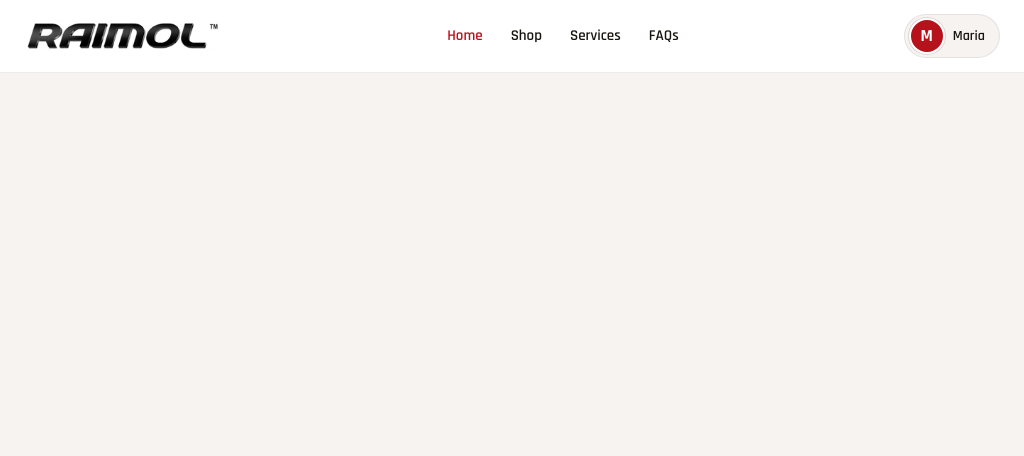
Scenario: header after login › puts cart, dark mode and log out inside the account menu
The image size is (1024, 456).
Expected: the text "Dark mode" is not shown
Click the button with aria-label "Account menu". click: (952, 36)
box: [904,14,1000,58]
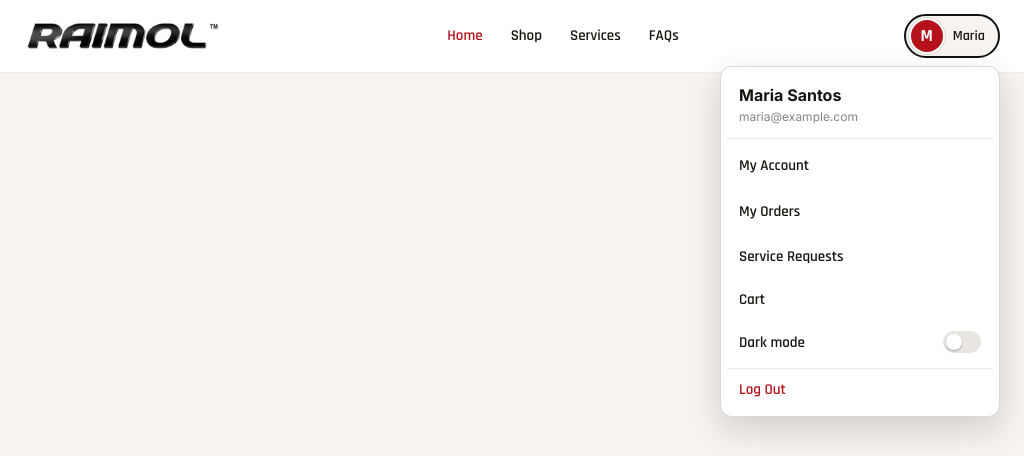
Now the menu item "Cart" is shown, box [727,279,993,320]
Now the menu item "Dark mode" is shown, box [727,320,993,364]
Now the menu item "Log Out" is shown, box [727,368,993,410]
